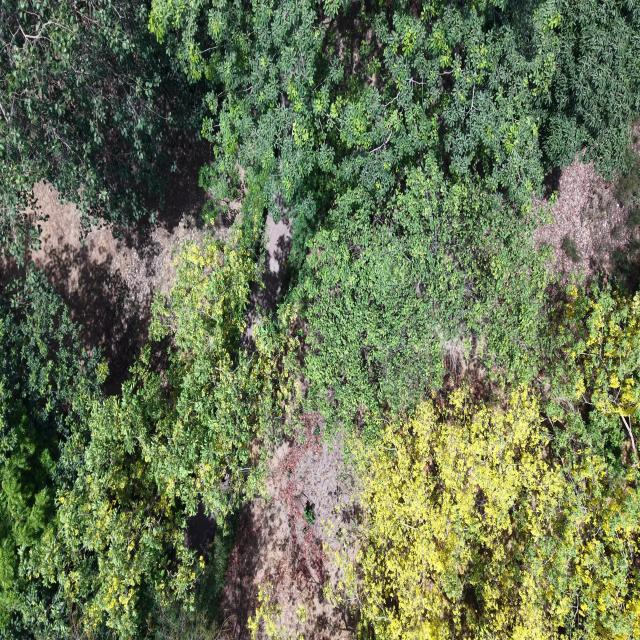DRY_AREA: (25, 162, 241, 393), (25, 153, 232, 393), (26, 165, 240, 393), (27, 163, 233, 392), (27, 183, 204, 393), (219, 414, 355, 639), (220, 414, 355, 639), (220, 417, 354, 639), (221, 432, 355, 639), (29, 183, 204, 303), (534, 126, 639, 295), (535, 159, 639, 290), (536, 161, 627, 274), (245, 215, 292, 339), (260, 215, 292, 310)
VEGETATION_TREE: (0, 0, 639, 639), (5, 197, 297, 638), (149, 0, 639, 242), (338, 287, 639, 638), (349, 387, 639, 638), (292, 157, 548, 423), (0, 0, 203, 259), (358, 388, 558, 638), (28, 356, 201, 638), (150, 195, 297, 520), (0, 270, 105, 637), (541, 284, 639, 472), (542, 0, 639, 175), (248, 583, 304, 639)
